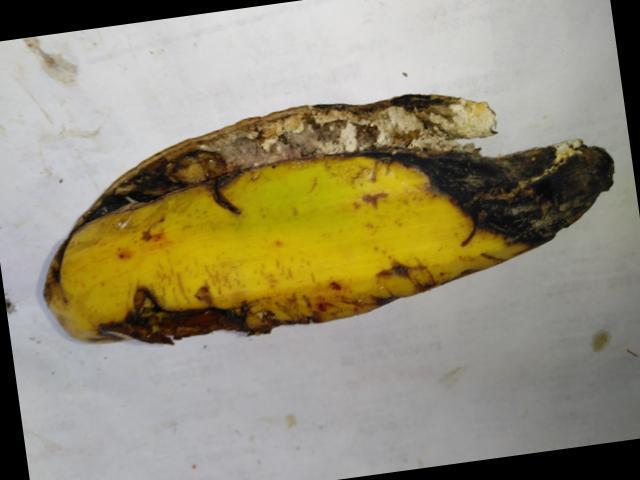rotten: (46, 66, 440, 241), (357, 45, 628, 279), (69, 250, 366, 383)
